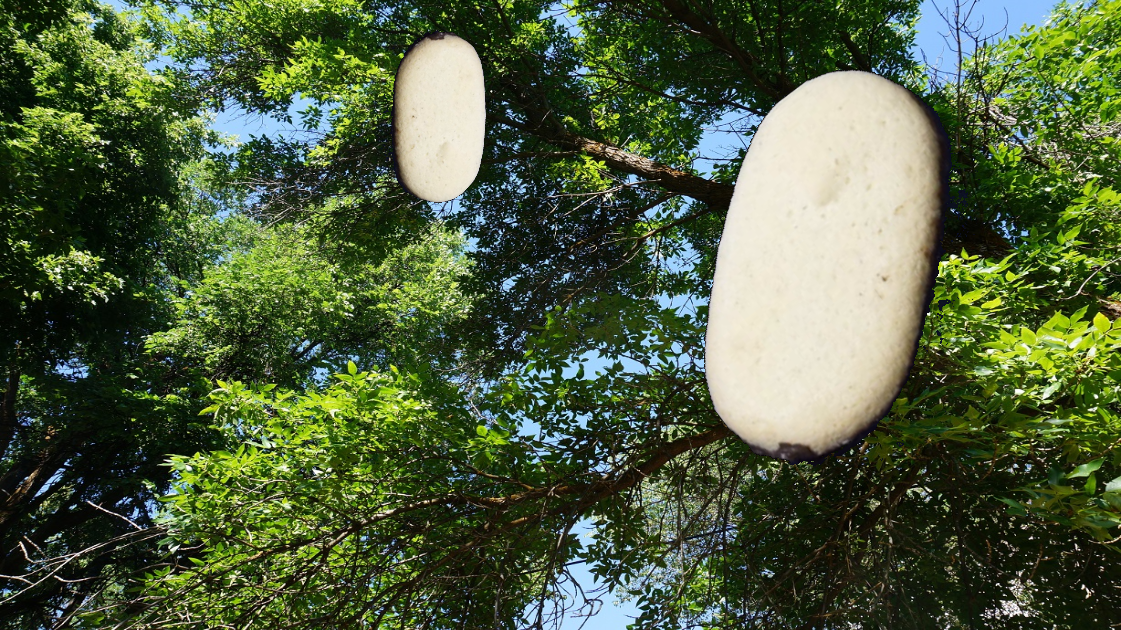test: (587, 25, 1091, 527), (323, 4, 541, 223)
